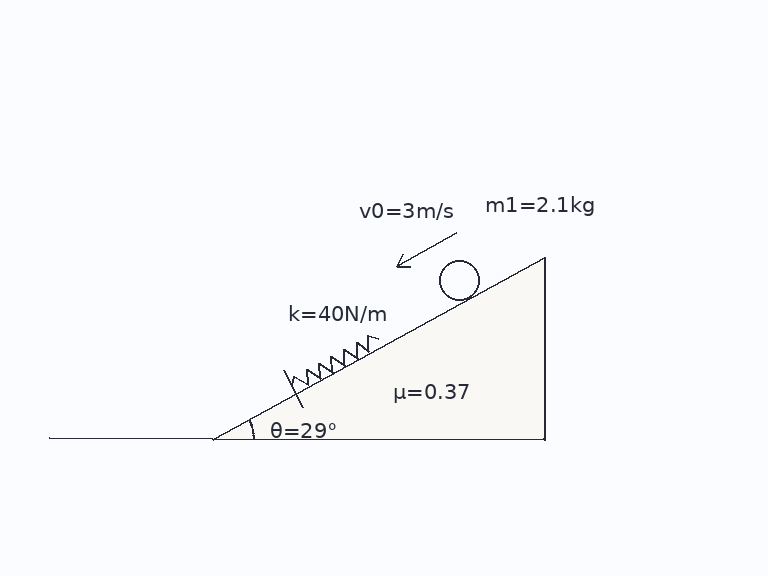ball: (437, 258, 481, 302)
ramp: (212, 254, 546, 441)
spring: (290, 333, 380, 387)
